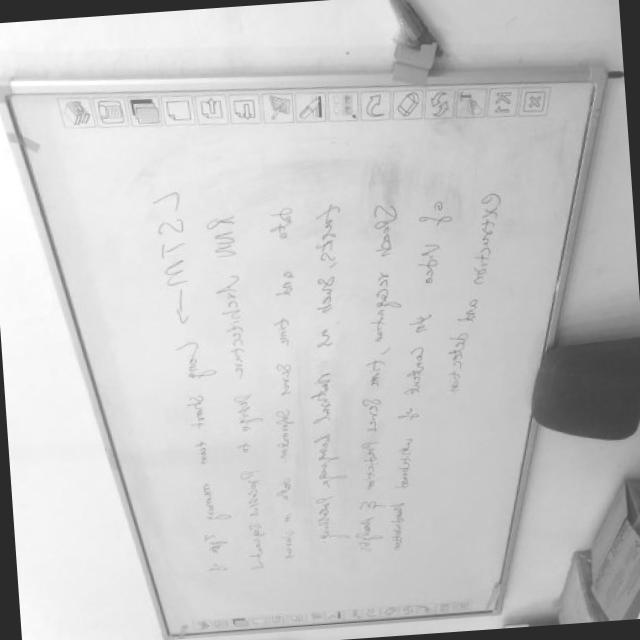White-board: (0, 75, 600, 634)
